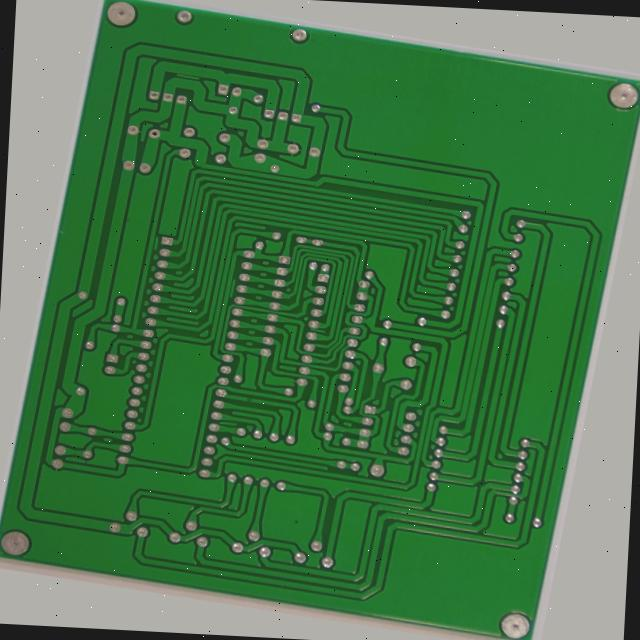spurious_copper: (114, 63, 148, 78), (210, 281, 223, 309), (114, 244, 129, 264), (221, 437, 248, 448), (307, 327, 333, 337)
